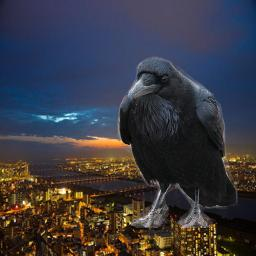Crow: (117, 56, 238, 228)
